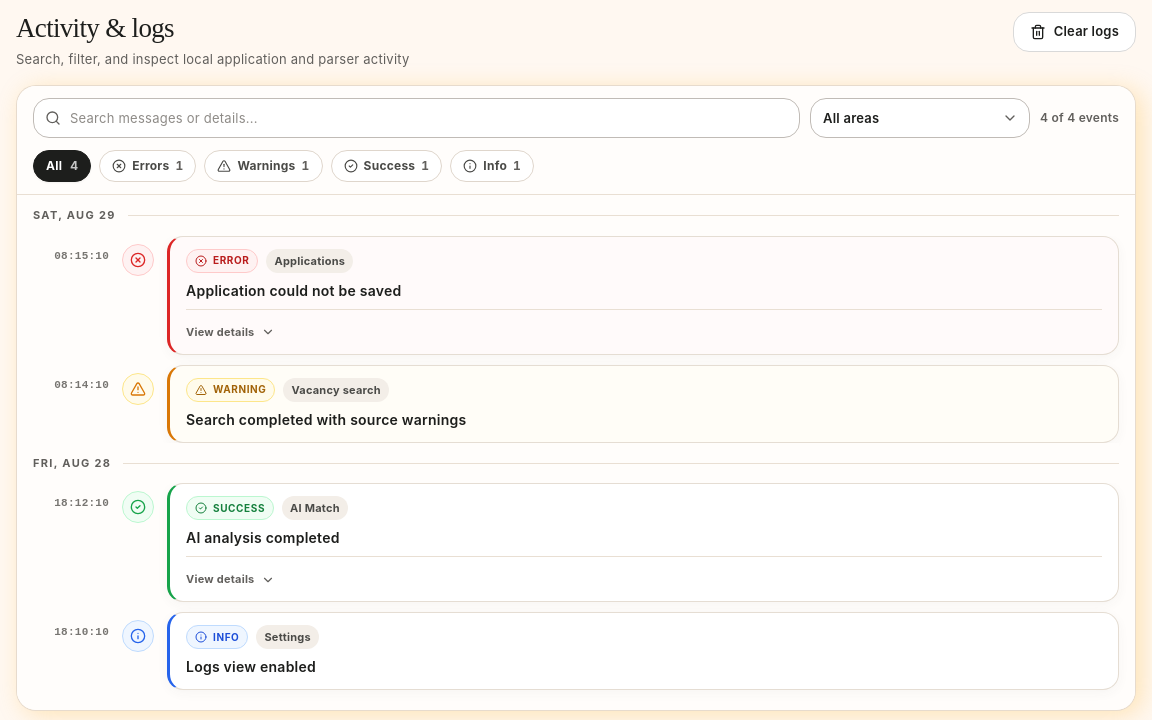
Test: filters activity by severity, area, and searchable details
Expected: the heading "Activity & logs" is shown, [16, 13, 174, 43]
Expected: the text "4 of 4 events" is shown, [1040, 110, 1119, 126]
Click the button "Errors 1" at point(148, 166), box [99, 150, 196, 182]
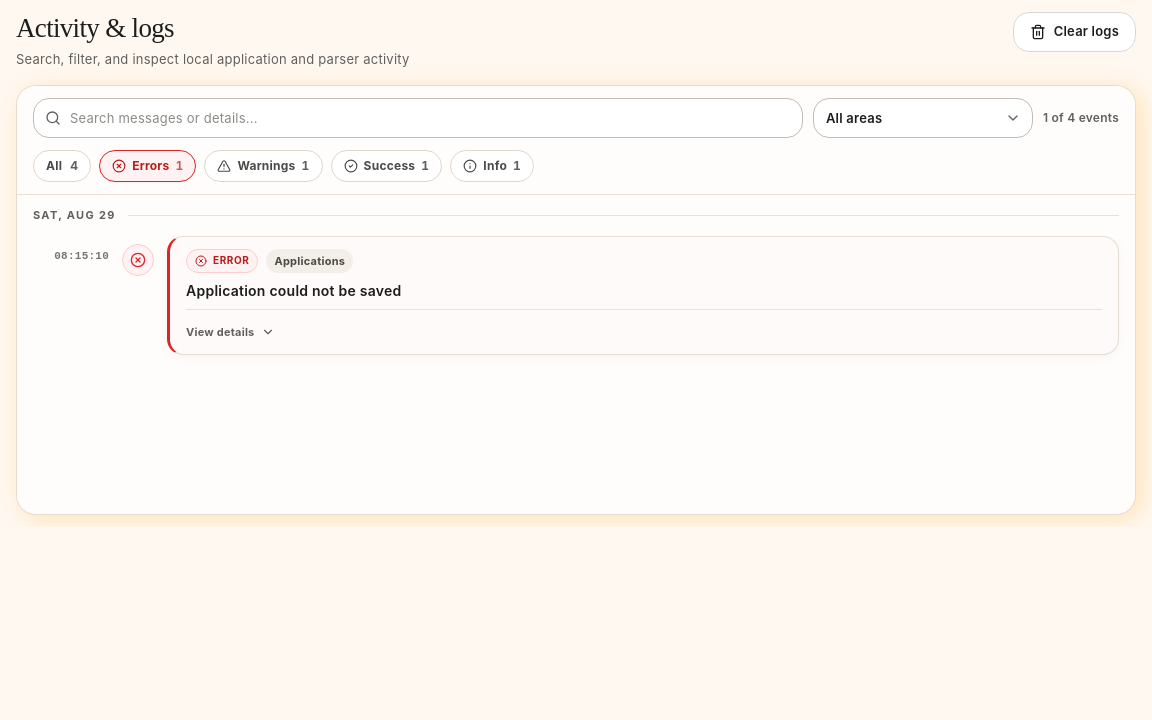
Expected: the text "Application could not be saved" is shown, [186, 282, 402, 299]
Expected: the text "AI analysis completed" is gone
Expected: the text "1 of 4 events" is shown, [1043, 110, 1119, 126]
Click the button "Errors 1" at point(148, 166), box [99, 150, 196, 182]
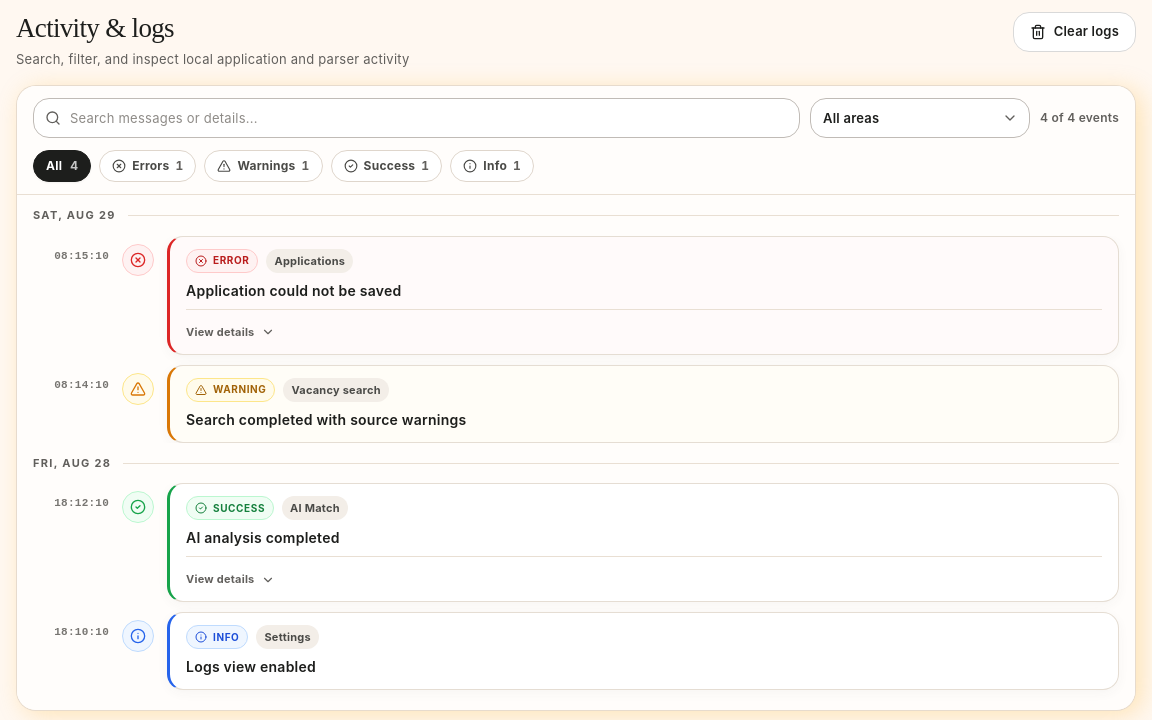
Type "Score: 89" into the search field named "Search activity" at point(416, 118), box [33, 98, 800, 138]
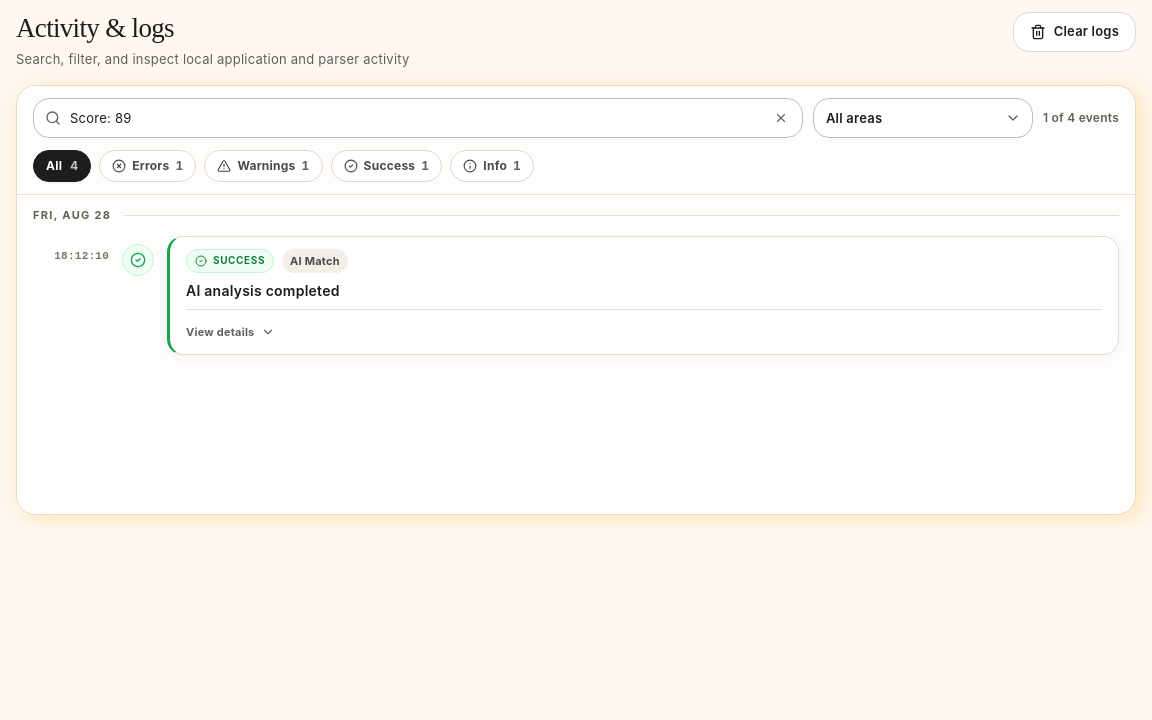
Expected: the text "AI analysis completed" is shown, [186, 282, 340, 299]
Expected: the text "Application could not be saved" is gone
Click the button named "Clear activity search" at point(781, 118), box [767, 104, 795, 132]
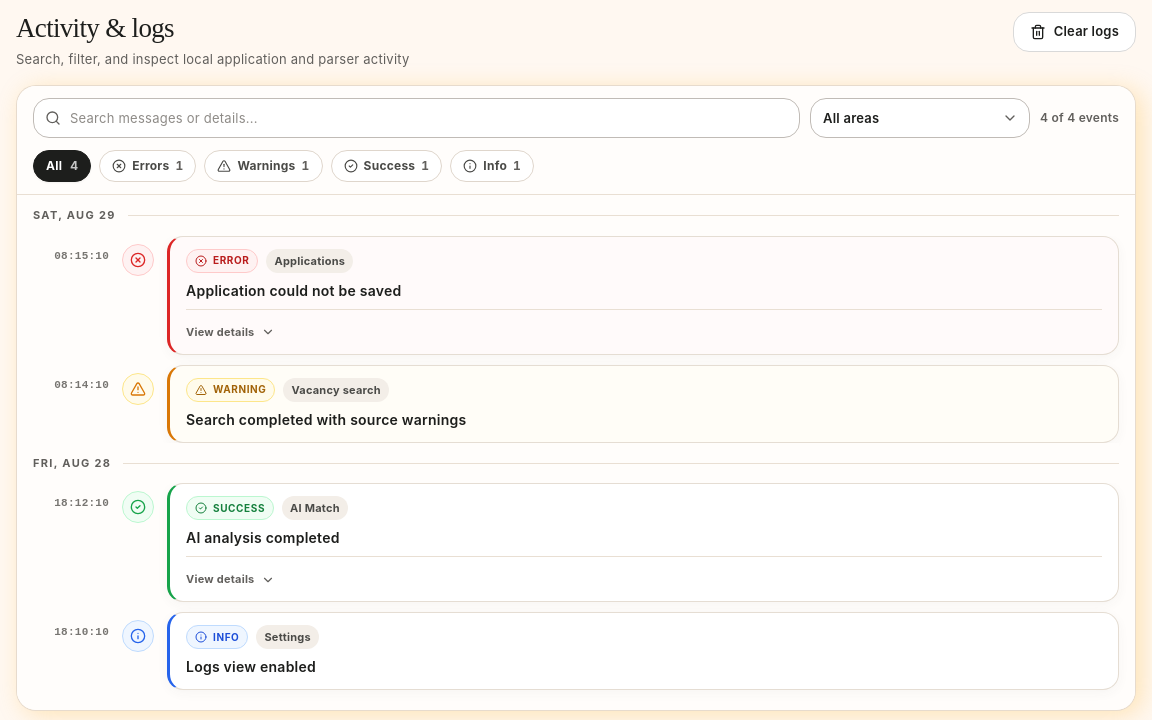
Select "Vacancy search" in the dropdown named "Filter activity area" at point(920, 118), box [810, 98, 1030, 138]
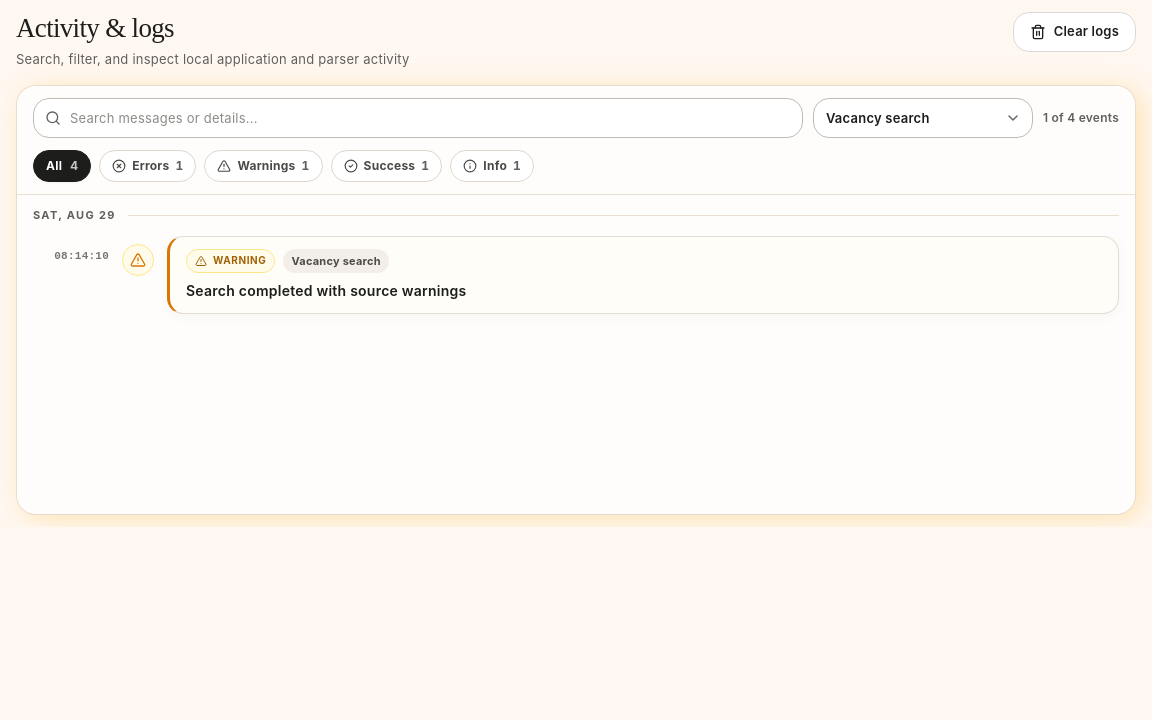
Expected: the text "Search completed with source warnings" is shown, [186, 282, 466, 299]
Expected: the text "Logs view enabled" is gone
